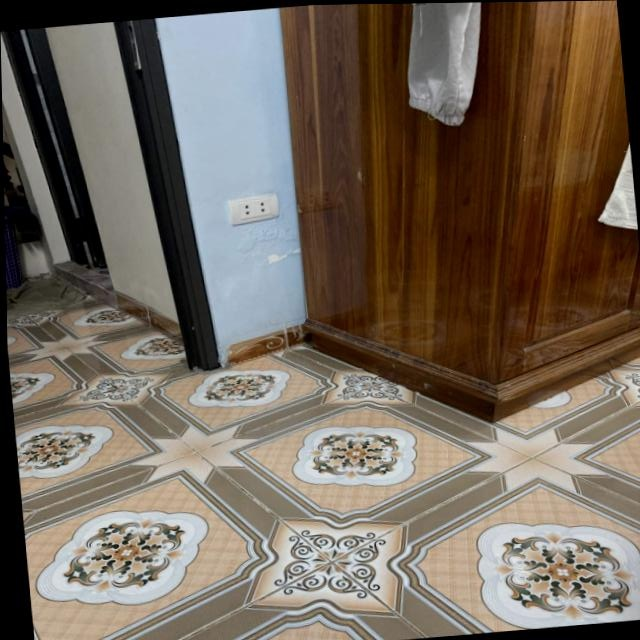outlet: (229, 191, 281, 225)
